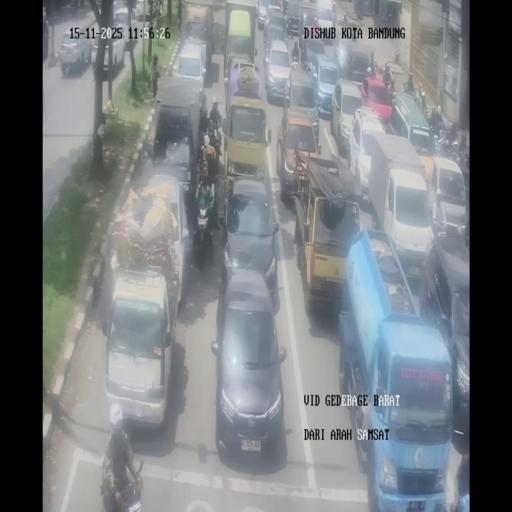car: (102, 267, 177, 430), (220, 178, 280, 304), (276, 104, 320, 202), (389, 91, 434, 153), (332, 78, 366, 155), (306, 54, 339, 119), (174, 41, 208, 101), (264, 38, 294, 102), (90, 30, 126, 76), (60, 29, 92, 76), (302, 1, 334, 46), (113, 6, 138, 48), (345, 50, 372, 83), (284, 0, 303, 37), (255, 0, 275, 27), (135, 0, 151, 18), (92, 0, 104, 16), (280, 0, 288, 14)
motorcycle: (192, 191, 215, 267), (456, 146, 469, 206), (428, 112, 448, 144), (208, 121, 222, 162), (334, 39, 349, 74), (198, 101, 208, 138), (298, 27, 307, 61), (417, 86, 427, 115), (446, 120, 458, 144), (382, 73, 395, 95), (402, 81, 416, 97), (368, 52, 376, 77), (355, 0, 364, 19), (290, 53, 300, 70), (70, 0, 83, 12), (351, 17, 358, 39), (378, 4, 386, 22), (342, 12, 348, 28)
truck: (338, 234, 452, 507), (294, 159, 363, 314), (362, 132, 431, 258), (149, 79, 205, 215), (222, 92, 269, 202), (224, 7, 255, 81)
